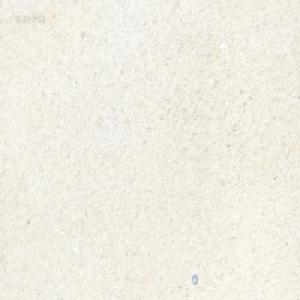Washer: (192, 272, 198, 284)
